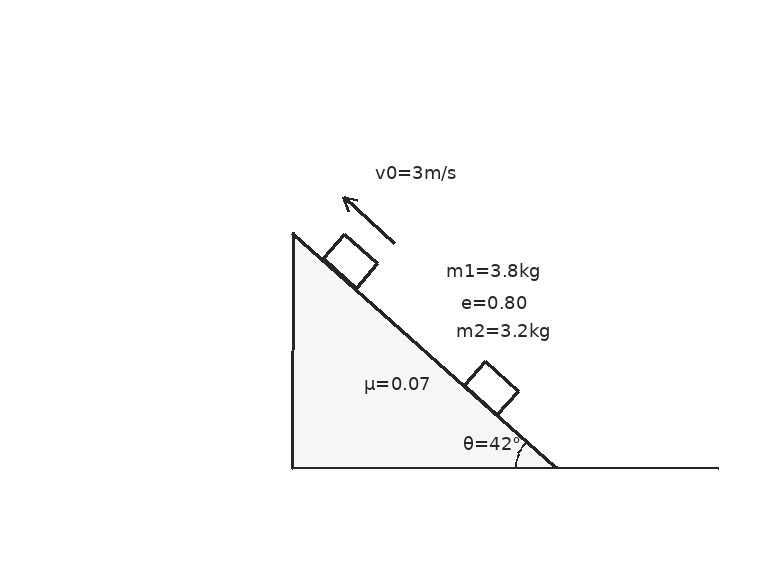block: (321, 232, 379, 290), (462, 359, 520, 416)
ramp: (291, 229, 558, 470)
